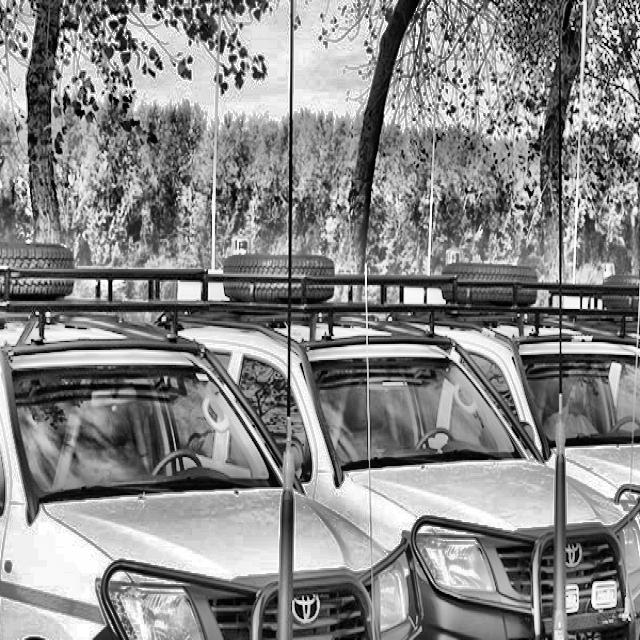light_vehicle: (0, 194, 410, 640)
